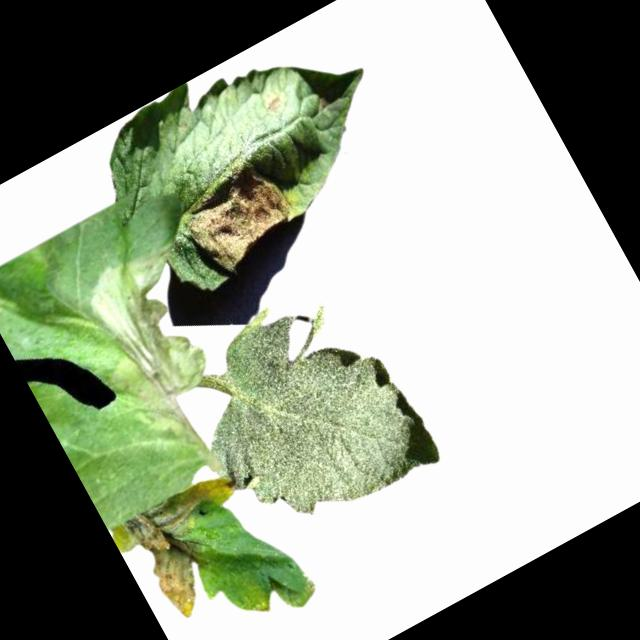Late_blight: (56, 237, 264, 484), (110, 469, 276, 632), (170, 151, 303, 279), (259, 90, 286, 116)
healthy: (157, 266, 442, 558)
